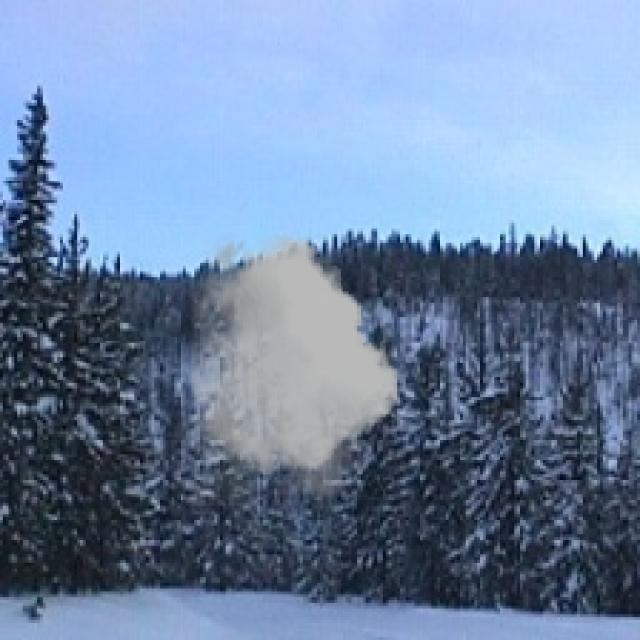smoke: (191, 231, 400, 506)
